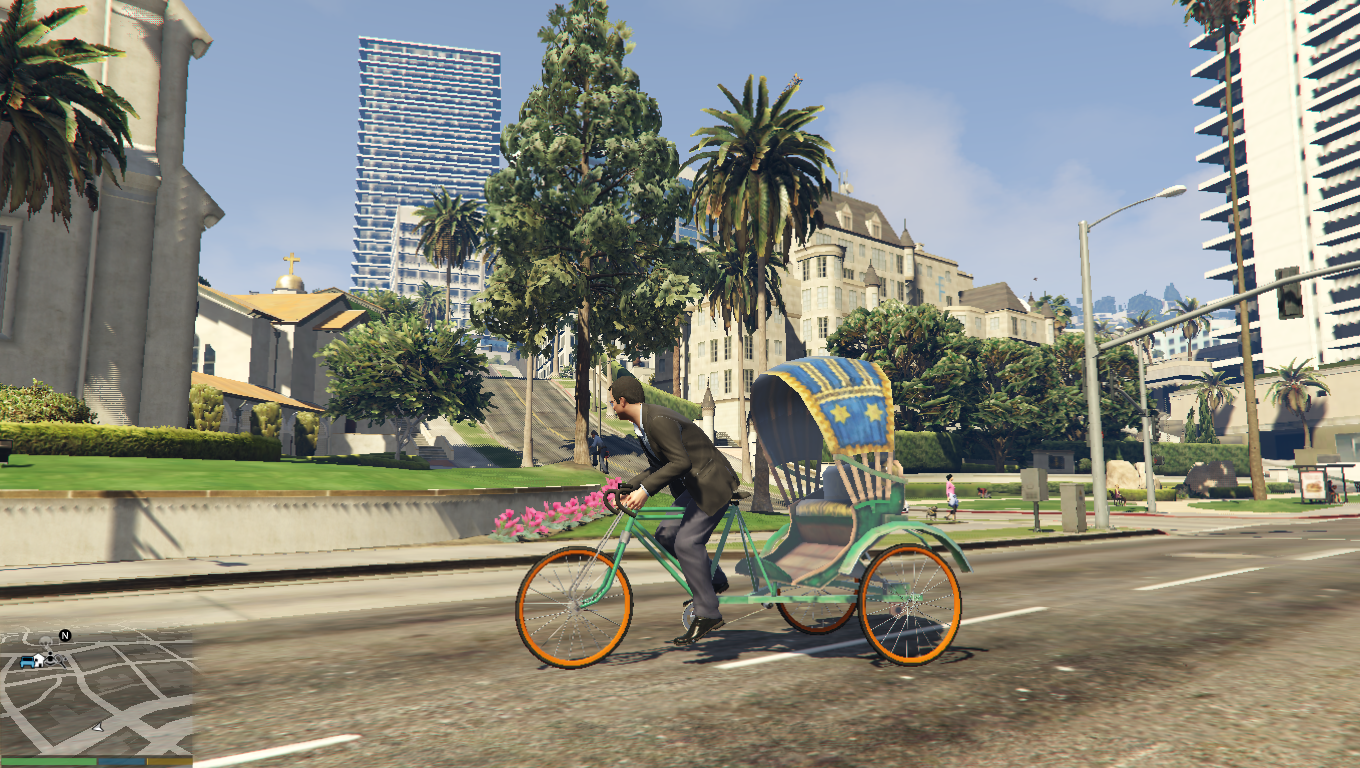Rickshaw: (509, 360, 964, 693)
